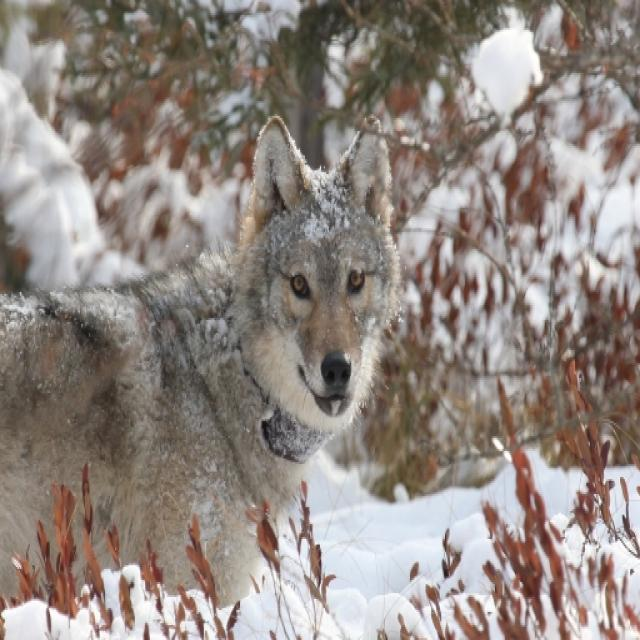wolf: (0, 121, 417, 640)
